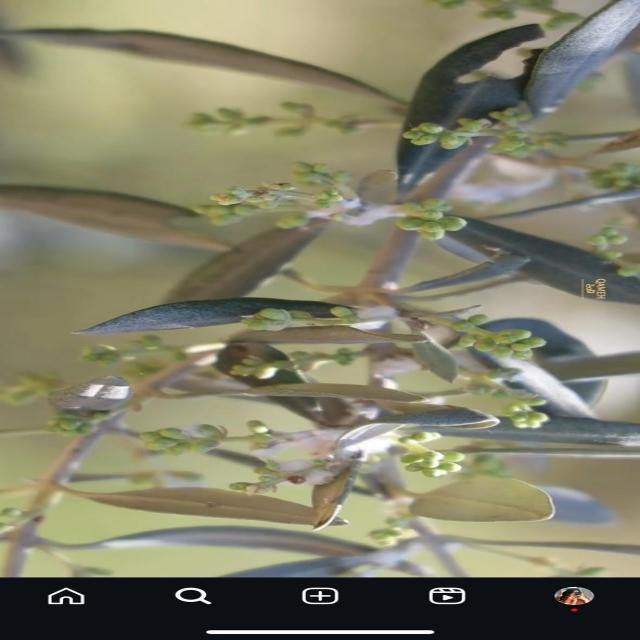Psyllid: (193, 162, 463, 238), (316, 422, 441, 461), (264, 442, 336, 490), (141, 424, 228, 456), (368, 344, 420, 387), (346, 301, 406, 334)
